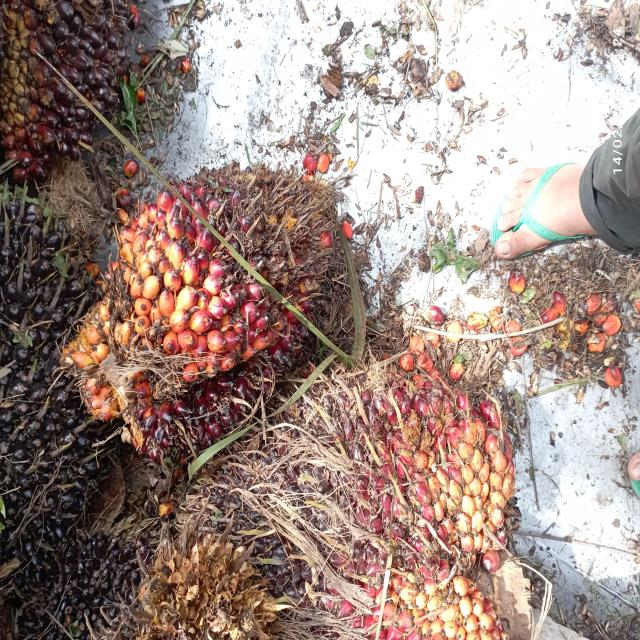fraksi 1: (15, 144, 376, 447)
fraksi 3: (278, 292, 560, 640)
